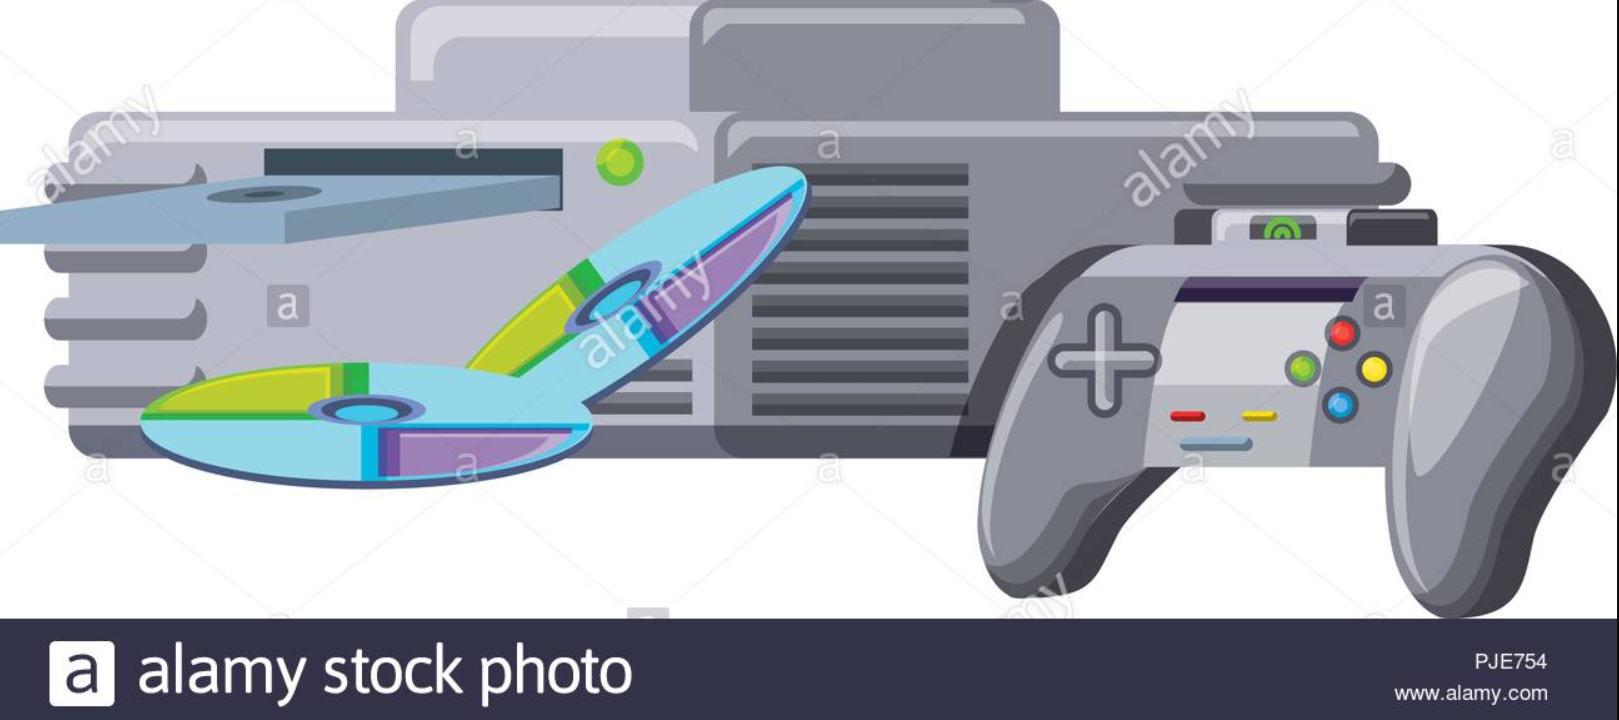gamingconsole: (996, 242, 1608, 618)
